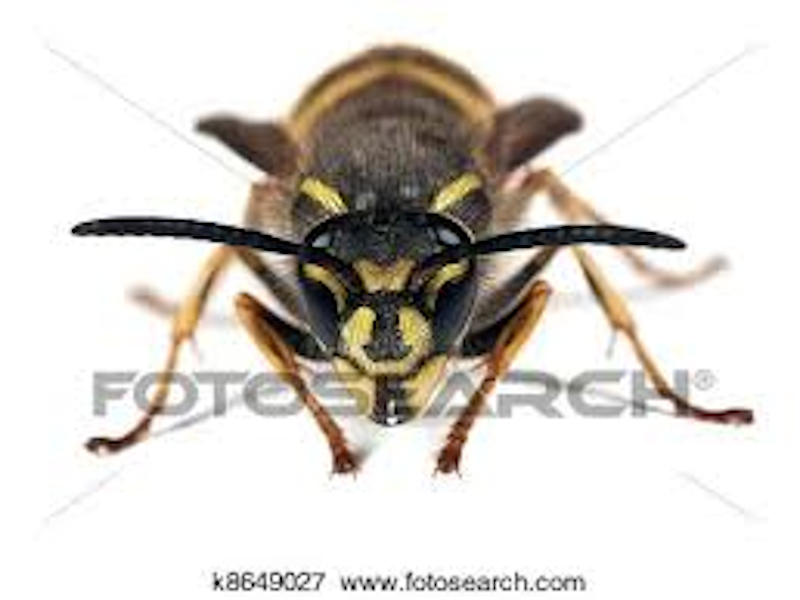chax: (85, 40, 722, 481)
